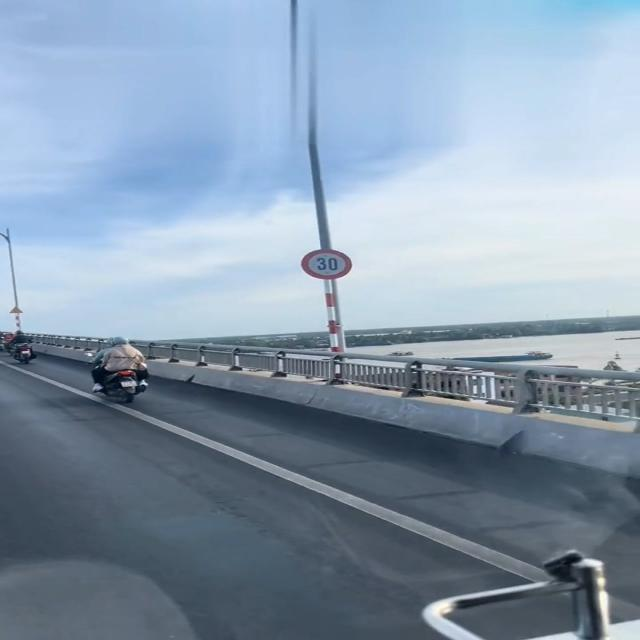127-toc-do-toi-da-30: (301, 249, 354, 280)
